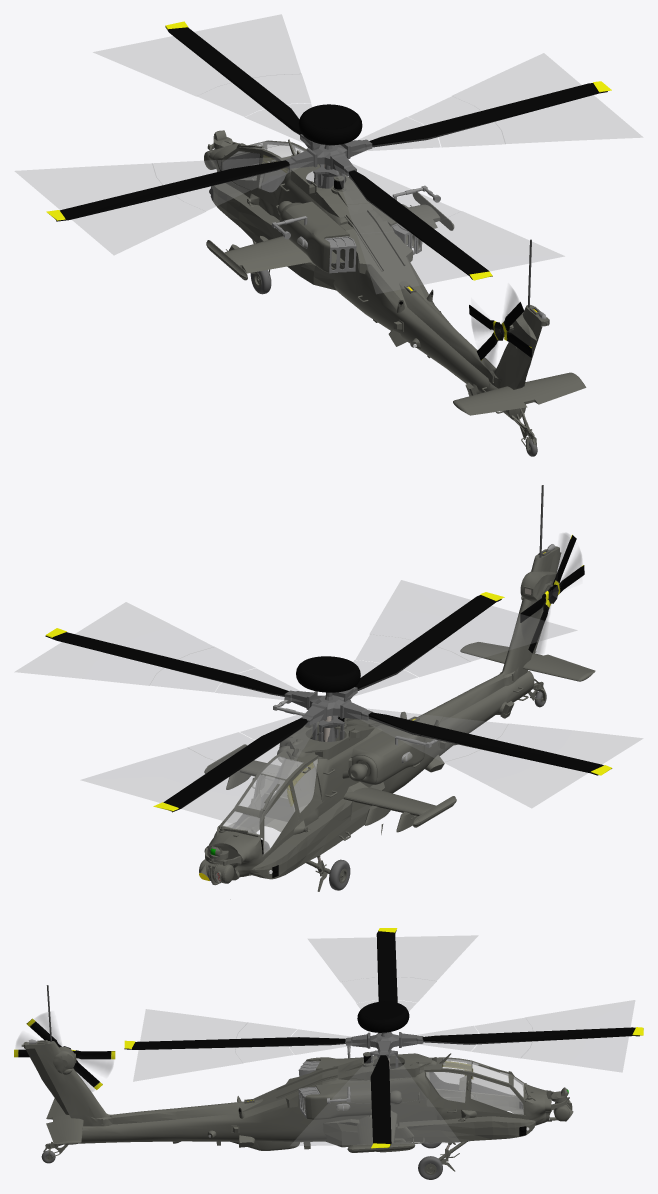
3 views of the same model, one above another, from view 1: azimuth 30°, elevation 25°; view 2: azimuth 150°, elevation 25°; view 3: azimuth 270°, elevation 25° (orthographic). The views are drawn at different scales.
Visible parts, largest first — view 1: rotor_main, airframe, rotor_tail; view 2: rotor_main, airframe, rotor_tail; view 3: rotor_main, airframe, rotor_tail.
Part boxes in pixels (left/top/right/bottom): rotor_main: left=15, top=14, right=642, bottom=293; airframe: left=204, top=104, right=586, bottom=456; rotor_tail: left=469, top=287, right=531, bottom=374; rotor_main: left=15, top=580, right=642, bottom=830; airframe: left=199, top=485, right=595, bottom=891; rotor_tail: left=520, top=533, right=584, bottom=654; rotor_main: left=124, top=928, right=643, bottom=1148; airframe: left=21, top=985, right=573, bottom=1179; rotor_tail: left=14, top=1013, right=115, bottom=1091.
Bounding box in the file's own units: 15.38 × 5.79 × 18.63.
Materials: 29 (3 with a texture image).
